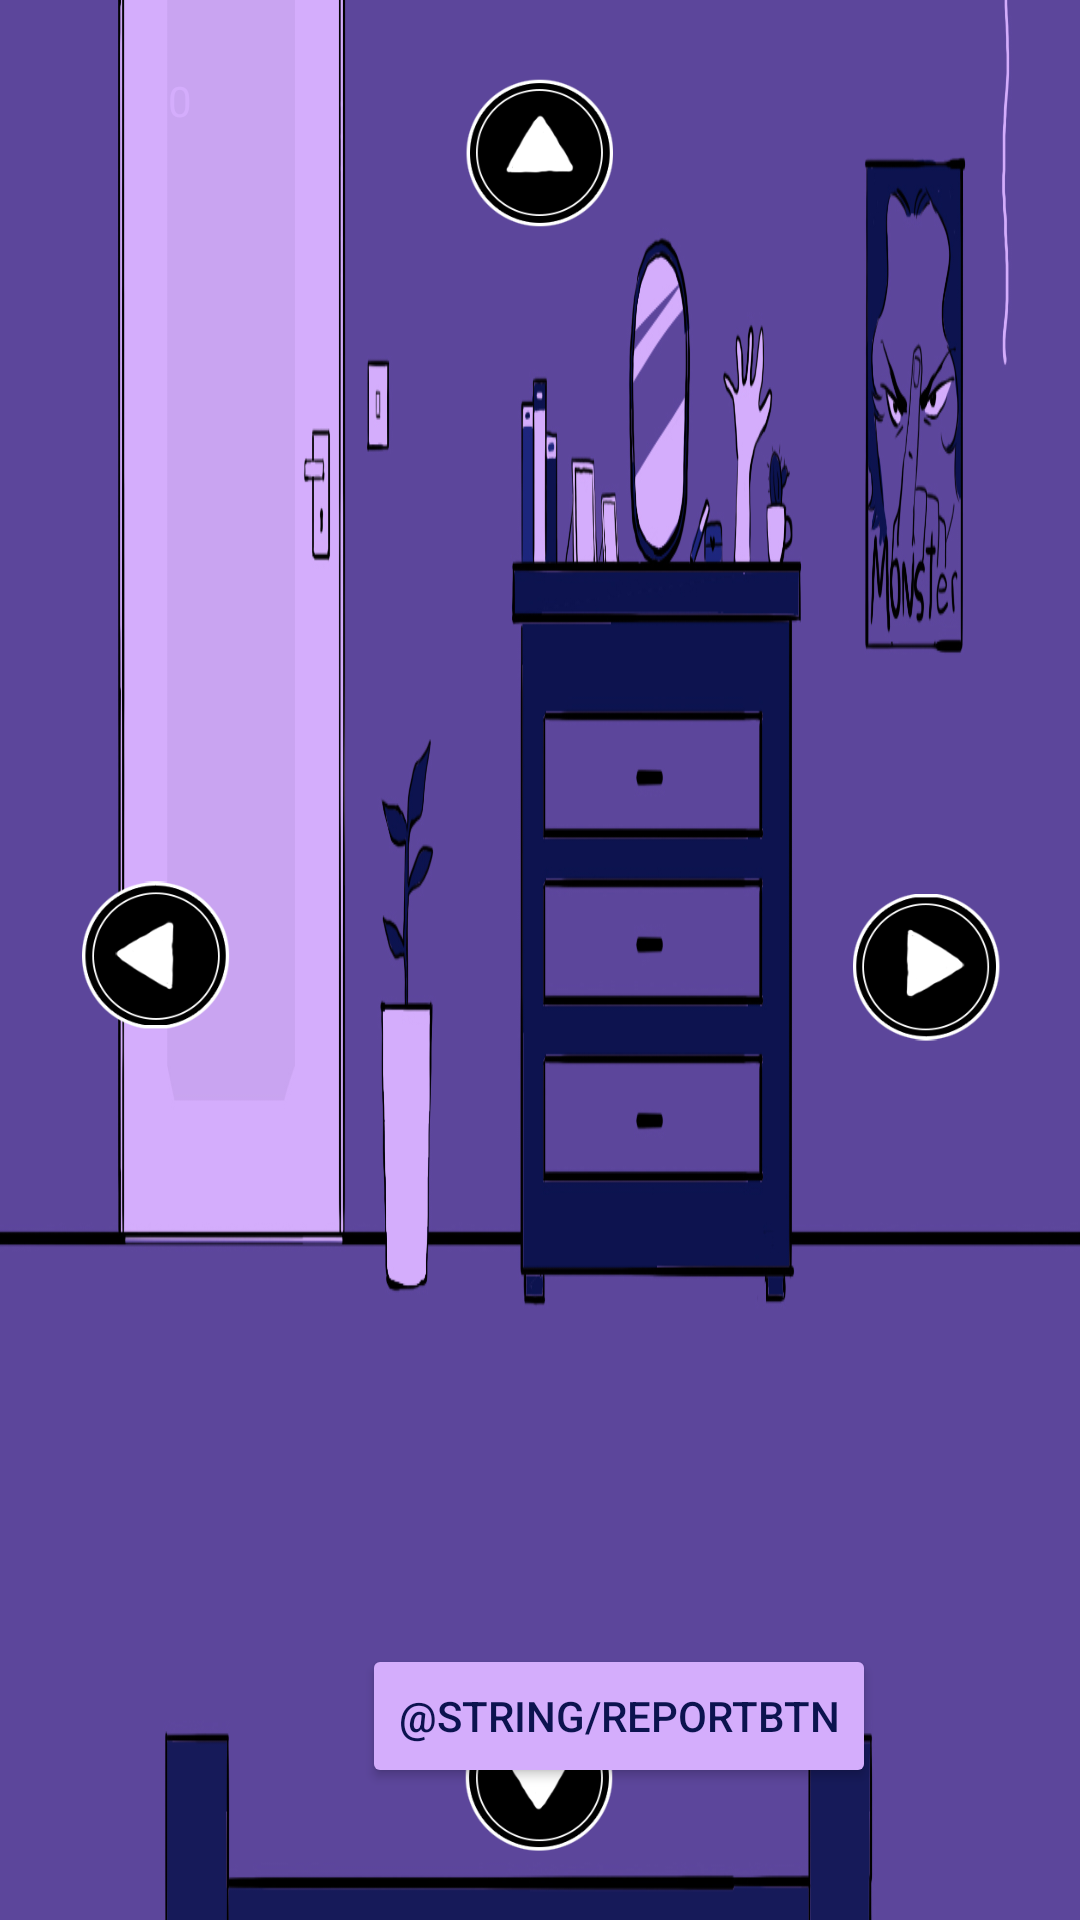

Point at icon controls on the screen. Image size 1080w x 1920h, points as [x,y].
left: [153,957]
right: [926,967]
top: [539,153]
